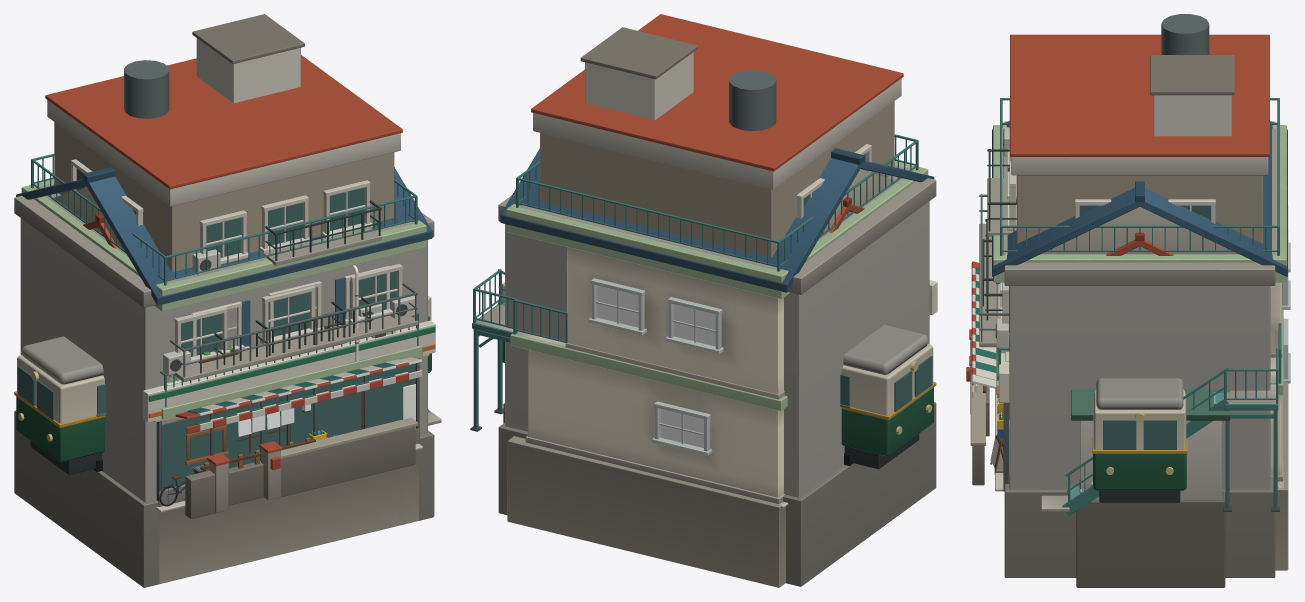
Rendered from coastal-town-kit.glb.
3 renders of one model, left to right at view 1: azimuth 30°, elevation 25°; view 2: azimuth 150°, elevation 25°; view 3: azimuth 270°, elevation 25°, orthographic. The views are drawn at different scales.
Parts seen in each view (by area): view 1: Town_Shop_Konbini, Town_Shop_Tall, Town_Hero_Haikaze, Town_Shop_Corner, Town_Tram_Car, Town_House_SlopeA, Town_House_SlopeB; view 2: Town_Hero_Haikaze, Town_Shop_Tall, Town_Shop_Konbini, Town_Tram_Car, Town_Shop_Corner; view 3: Town_Shop_Konbini, Town_Shop_Tall, Town_House_SlopeB, Town_Hero_Haikaze, Town_Shop_Corner, Town_Tram_Car, Town_House_SlopeA.
Boxes of the visible parts, x1,y1,x2,y2 form: Town_Shop_Konbini: (14,195,435,587); Town_Shop_Tall: (45,14,408,424); Town_Hero_Haikaze: (21,153,441,583); Town_Shop_Corner: (16,167,432,483); Town_Tram_Car: (14,296,431,475); Town_House_SlopeA: (83,214,418,519); Town_House_SlopeB: (200,315,430,505); Town_Hero_Haikaze: (470,134,928,587); Town_Shop_Tall: (531,14,903,257); Town_Shop_Konbini: (498,178,937,586); Town_Tram_Car: (502,282,936,469); Town_Shop_Corner: (500,148,934,292); Town_Shop_Konbini: (979,121,1275,577); Town_Shop_Tall: (975,14,1269,392); Town_House_SlopeB: (983,385,1230,587); Town_Hero_Haikaze: (990,98,1290,570); Town_Shop_Corner: (971,121,1287,474); Town_Tram_Car: (1092,378,1187,502); Town_House_SlopeA: (966,232,1173,485).
Bounding box in the file's own units: 12.65 × 13.88 × 8.93.
